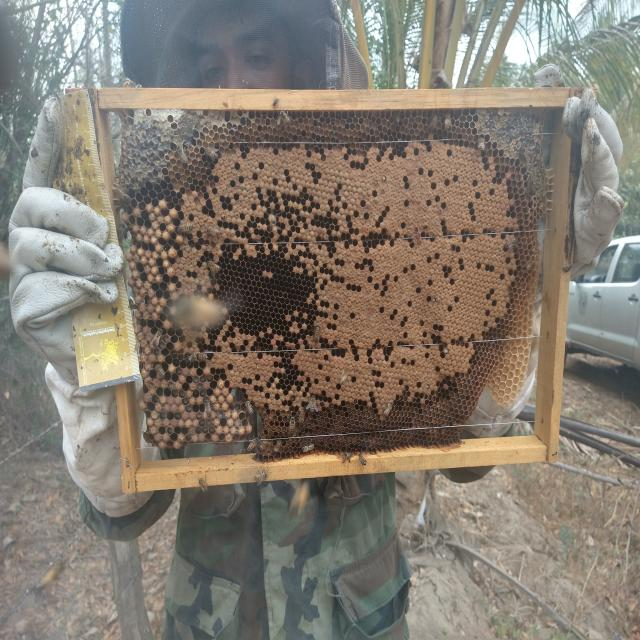cria: (120, 143, 520, 454)
marco: (126, 112, 558, 447)
